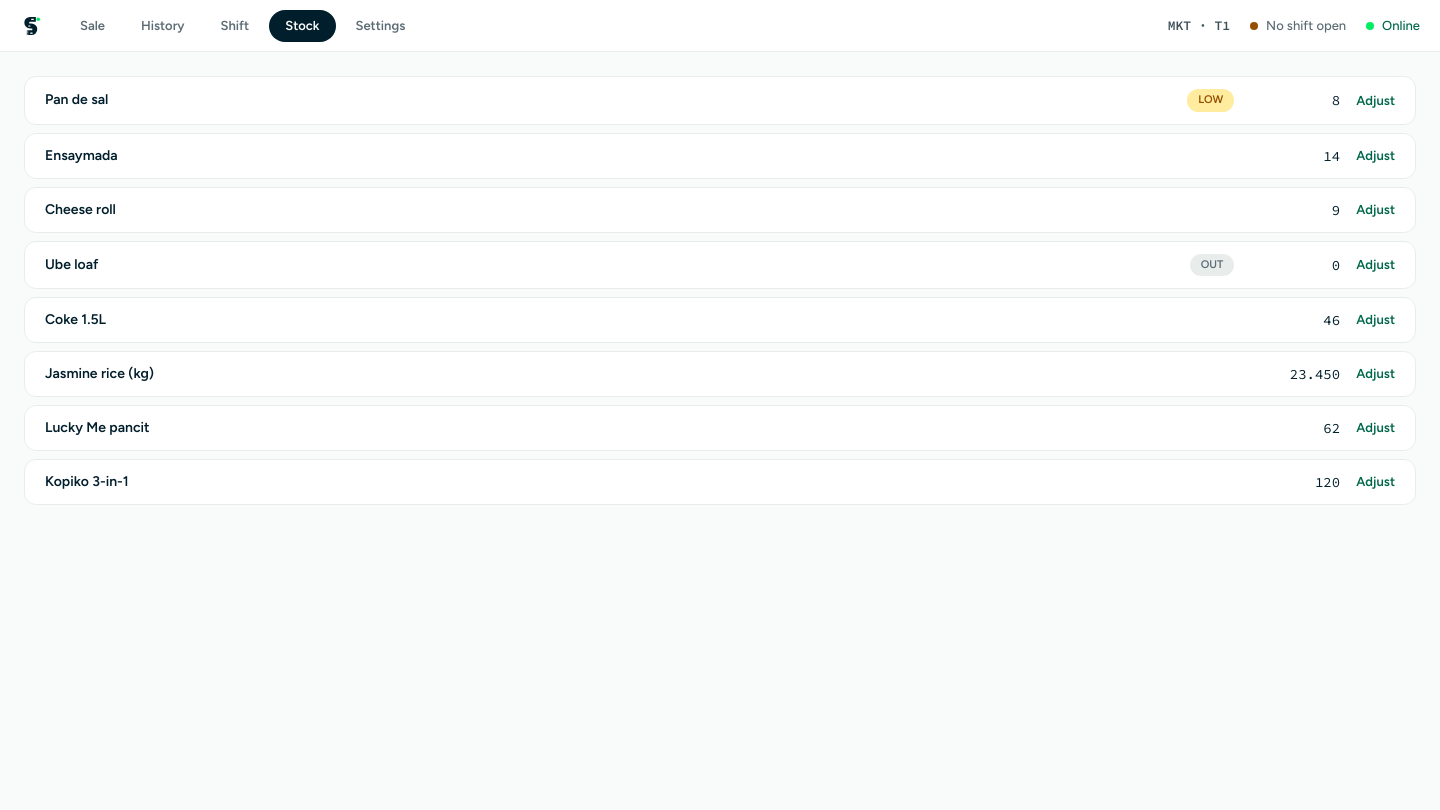
Test: an adjustment needs a reason before it can be posted
Click the button "Adjust" in the row of "OUT": [1376, 265] box [1356,255,1395,274]
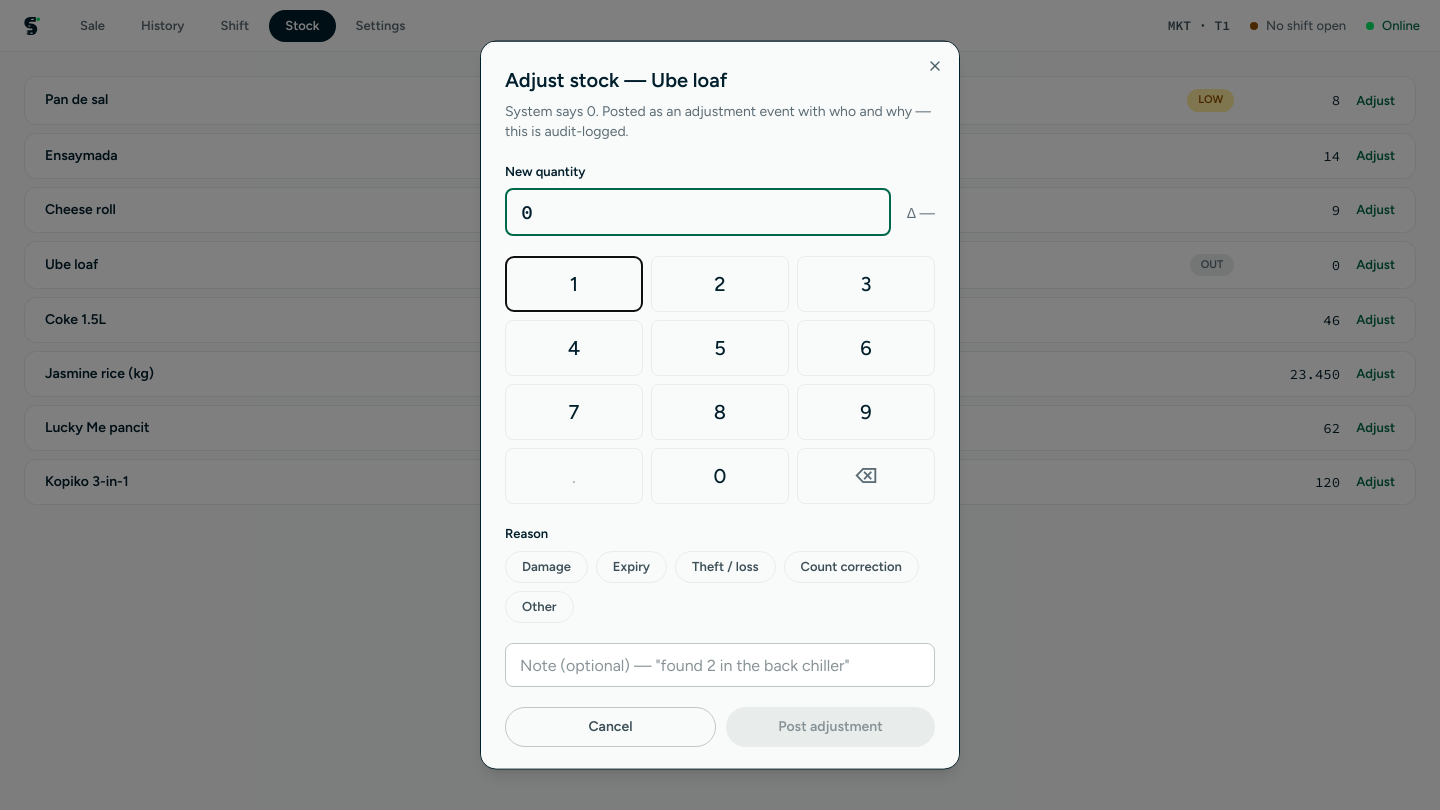
Result: the heading "Adjust stock — Ube loaf" is shown at [505,68,727,92]
Result: the text "System says 0." is shown at [505,102,935,142]
Result: the button "Post adjustment" is disabled at [726,706,935,746]
Click the button "2": [720, 283] box [651,255,789,311]
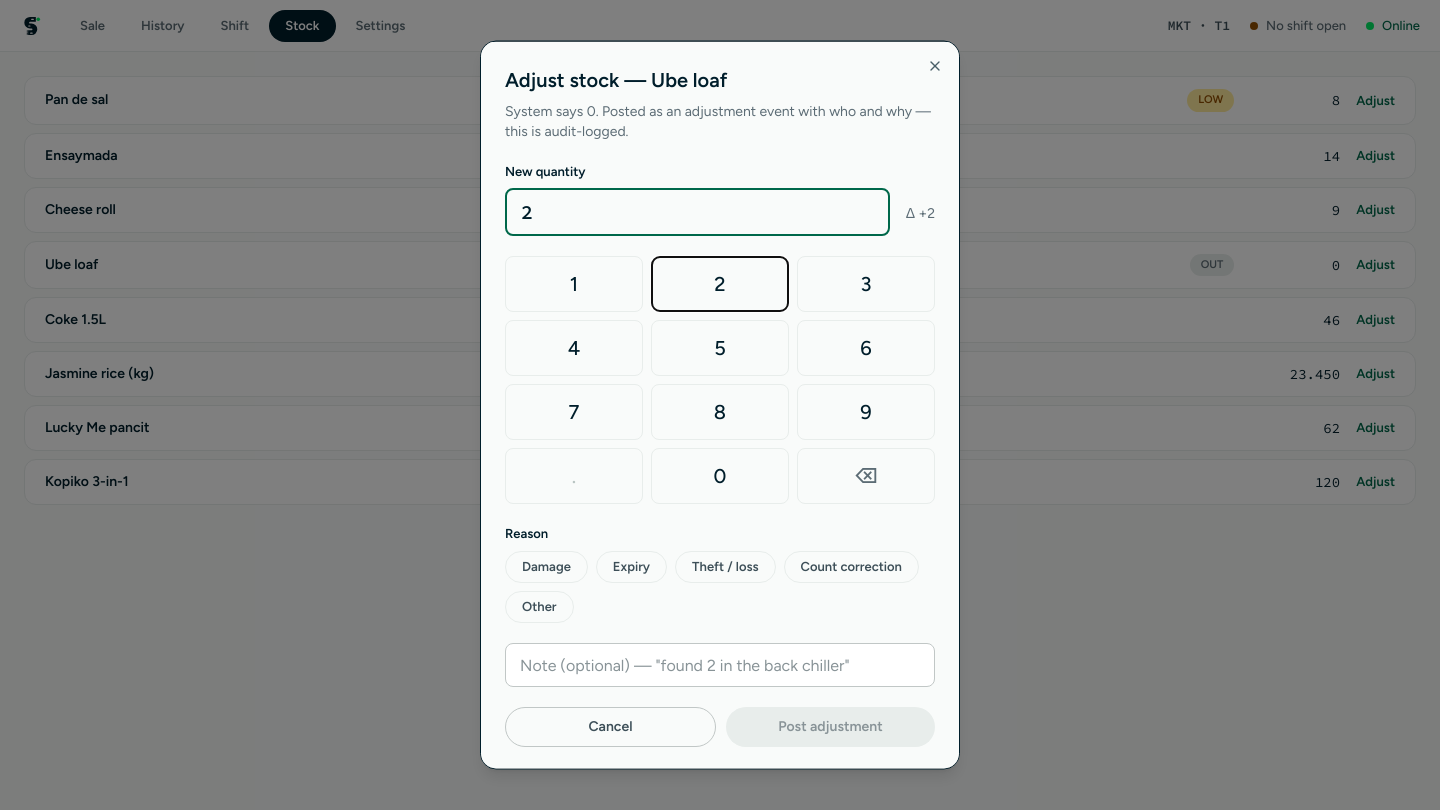
Result: the button "Post adjustment" is disabled at [726,706,935,746]
Result: the text "Δ +2" is shown at [906,204,935,221]
Click the button "Count correction": [851, 566] box [784,550,919,582]
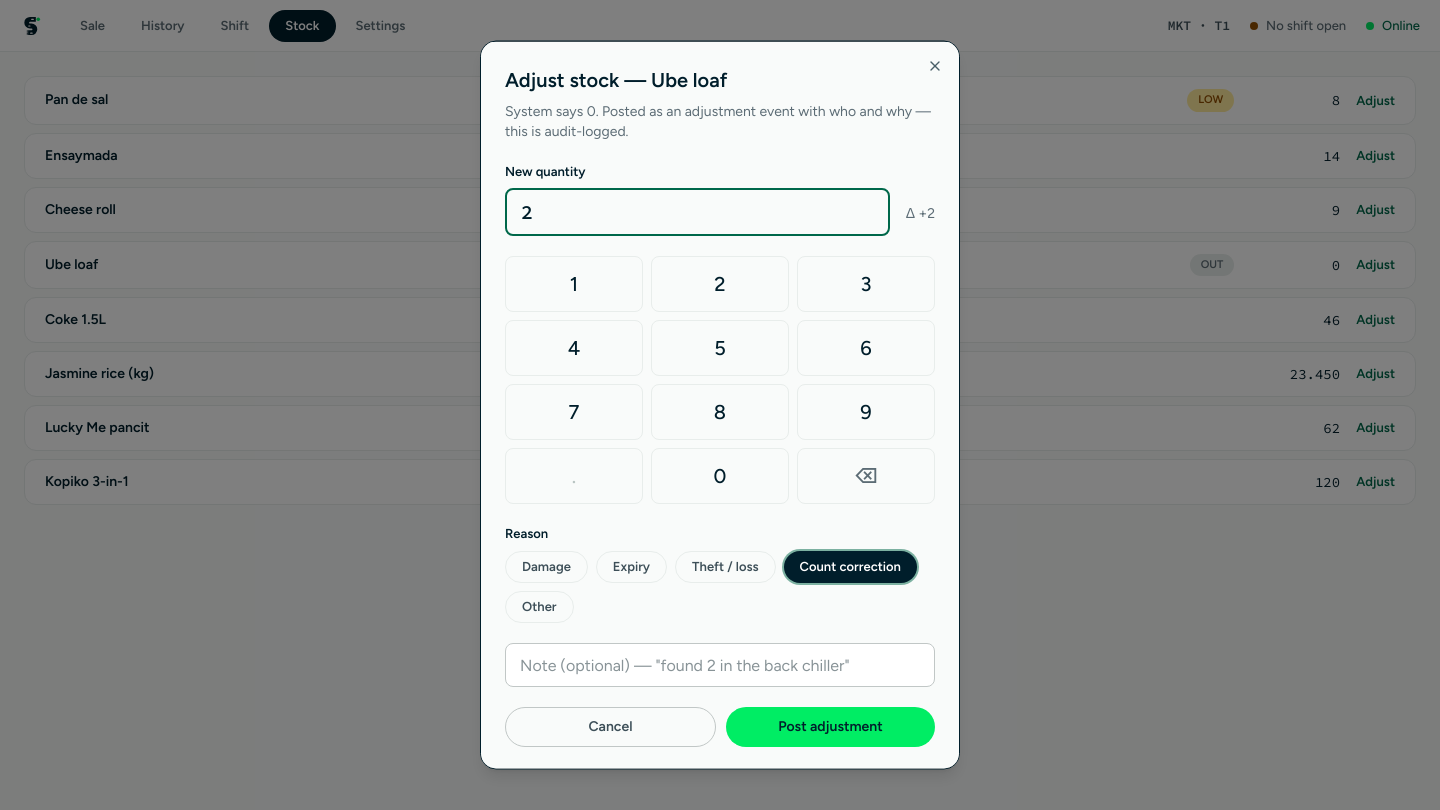
Result: the button "Post adjustment" is enabled at [726,706,935,746]
